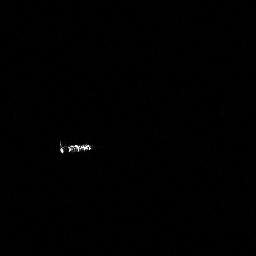ship: (57, 139, 94, 155)
